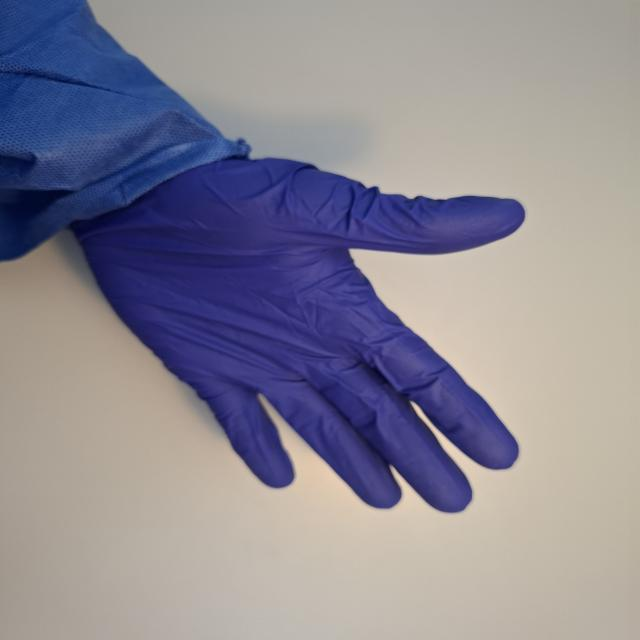glove_on: (68, 145, 534, 518)
